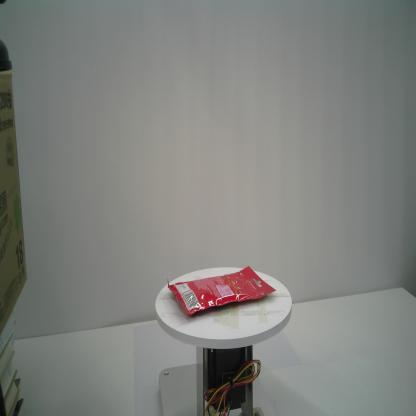Candy: (167, 266, 277, 316)
